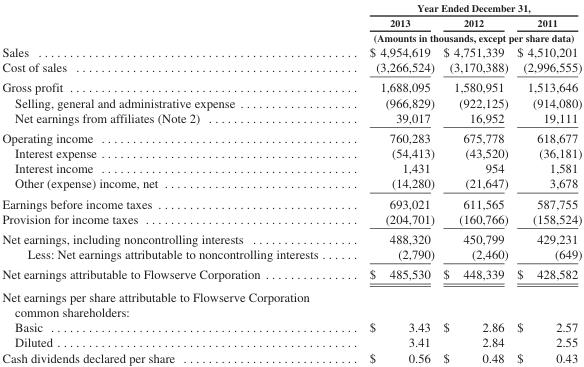table: (1, 1, 581, 364)
table column: (1, 1, 343, 364), (343, 1, 438, 364), (438, 1, 511, 364), (511, 1, 581, 364)
table column header: (1, 1, 581, 43)
table projected row header: (1, 285, 581, 319)
table row: (1, 285, 581, 319), (1, 263, 581, 285), (1, 59, 581, 77), (1, 109, 581, 127), (1, 127, 581, 145), (1, 175, 581, 193), (1, 210, 581, 228), (1, 228, 581, 246), (1, 77, 581, 94), (1, 193, 581, 210), (1, 246, 581, 263), (1, 43, 581, 59), (1, 14, 581, 29), (1, 94, 581, 109), (1, 145, 581, 160), (1, 160, 581, 175), (1, 319, 581, 334), (1, 334, 581, 349), (1, 349, 581, 364), (1, 29, 581, 43), (1, 1, 581, 14)
table spanning cell: (343, 29, 581, 43), (343, 1, 581, 14)
